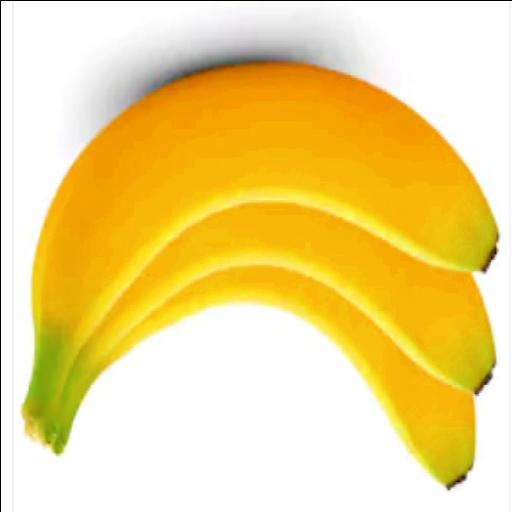banana: (23, 62, 497, 437), (55, 203, 494, 425), (55, 266, 475, 487)
